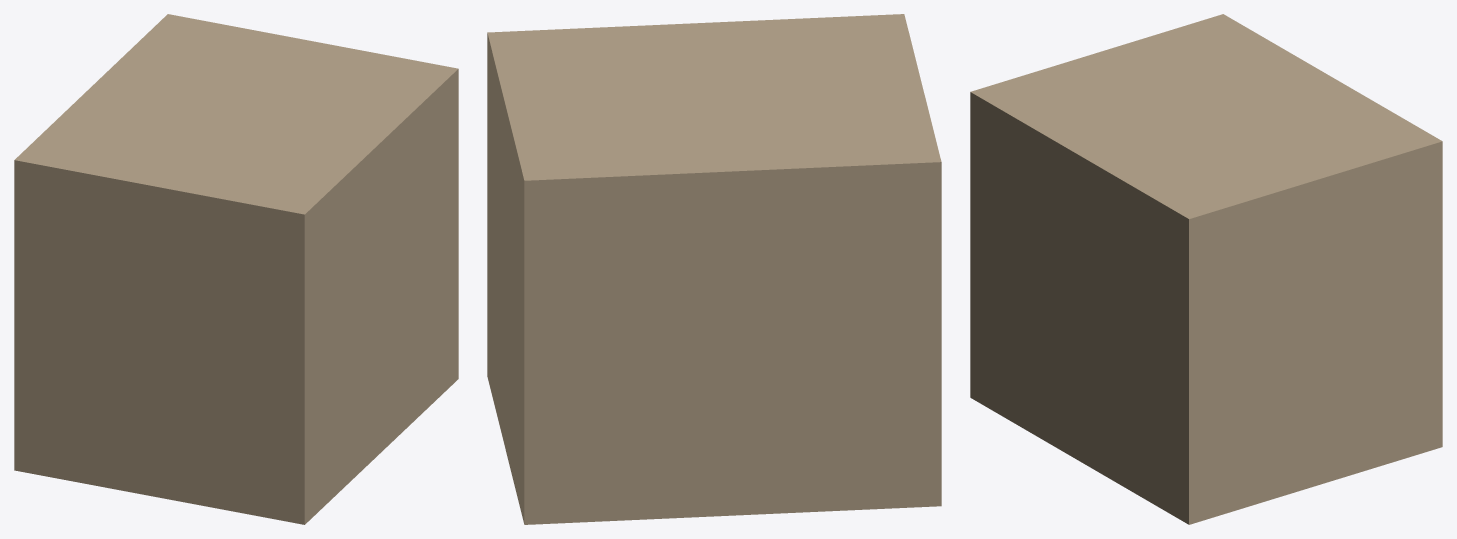
The model's file is bld_163484431.dae.
3 renders of one model, left to right at view 1: azimuth 30°, elevation 25°; view 2: azimuth 150°, elevation 25°; view 3: azimuth 270°, elevation 25°, orthographic. The views are drawn at different scales.
Parts seen in each view (by area): view 1: bld_163484431; view 2: bld_163484431; view 3: bld_163484431.
Boxes of the visible parts, bbox=[...] form: bld_163484431: bbox=[14, 14, 458, 524]; bld_163484431: bbox=[487, 14, 941, 524]; bld_163484431: bbox=[970, 14, 1442, 524].
Size of the model in its own units: 11.52 by 11.2 by 8.
